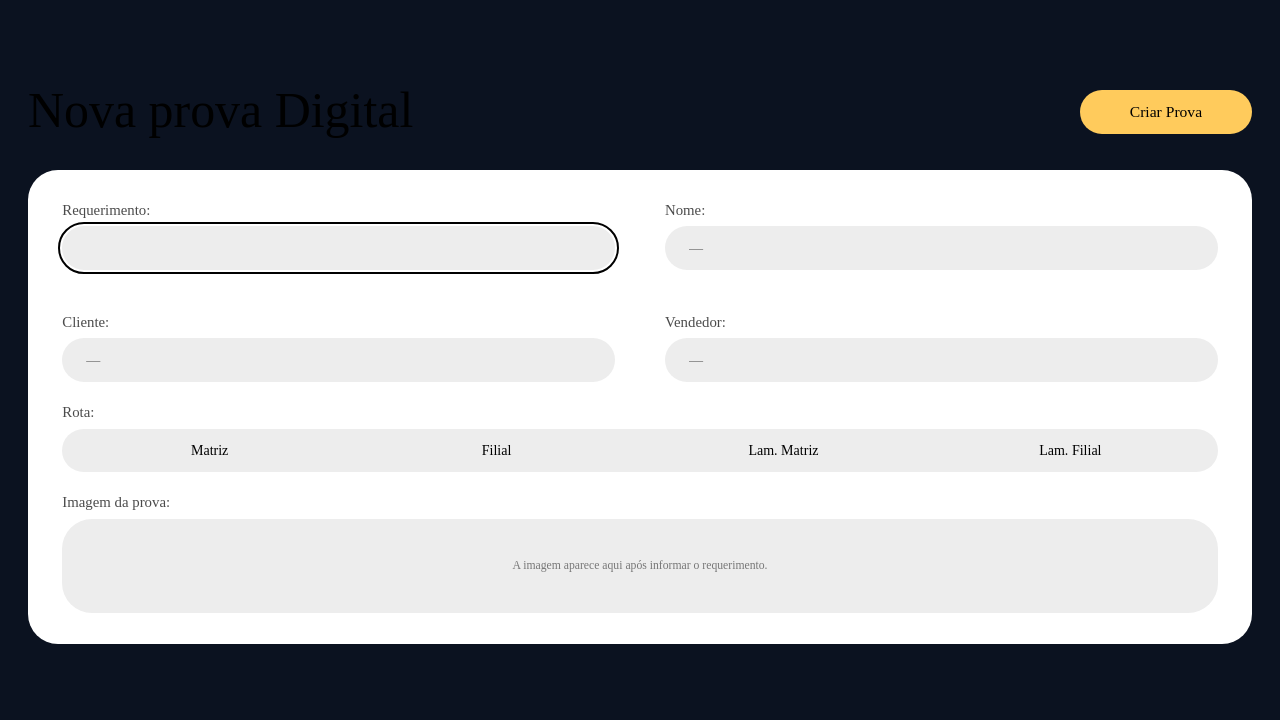
Test case: NovaProvaView (Fatia 4 — criação por requerimento) › digitar o requerimento resolve no ERP e auto-preenche os campos travados
This screenshot has width=1280, height=720.
Type "150288" into the field labelled "Requerimento:". click: {"x": 339, "y": 248}
box: x1=62 y1=226 x2=615 y2=270
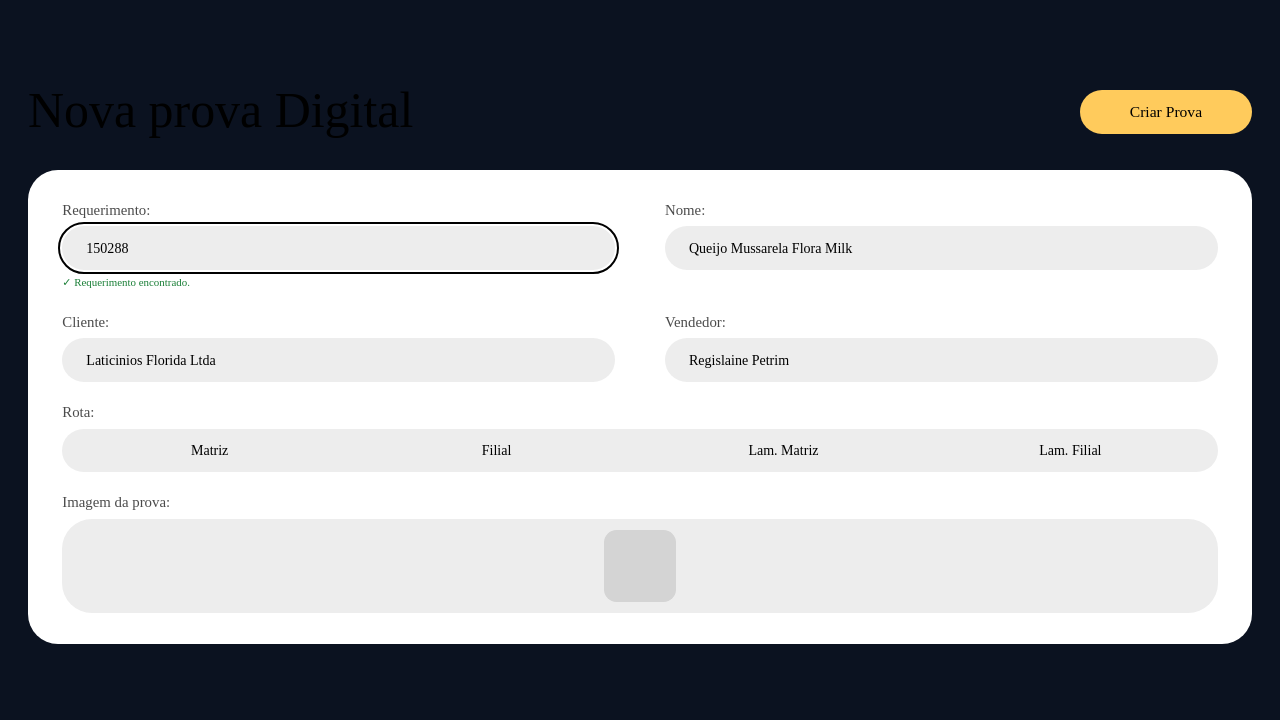
Expected: the text "✓ Requerimento encontrado." is shown, x1=62 y1=276 x2=190 y2=288
Expected: the field labelled "Nome:" holds "Queijo Mussarela Flora Milk", x1=665 y1=226 x2=1218 y2=270
Expected: the field labelled "Cliente:" holds "Laticinios Florida Ltda", x1=62 y1=338 x2=615 y2=382
